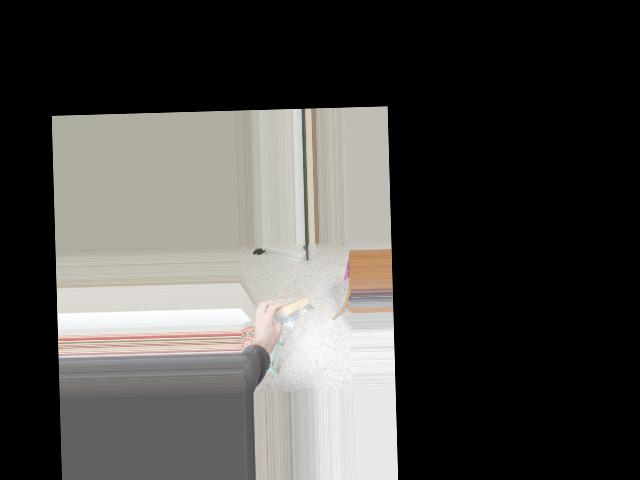cheese: (254, 296, 317, 325)
